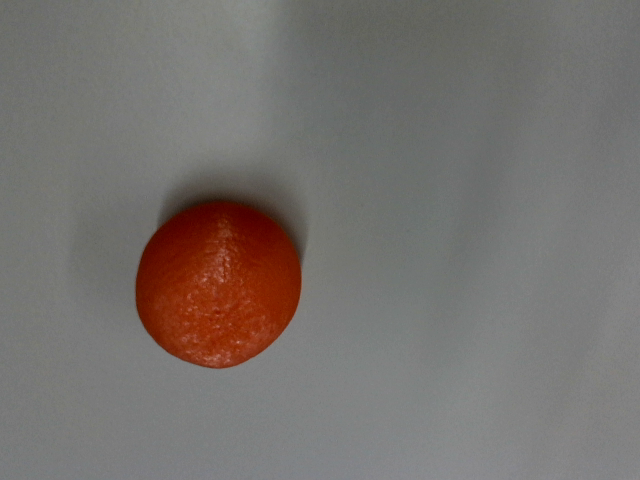orange: (116, 180, 320, 388)
